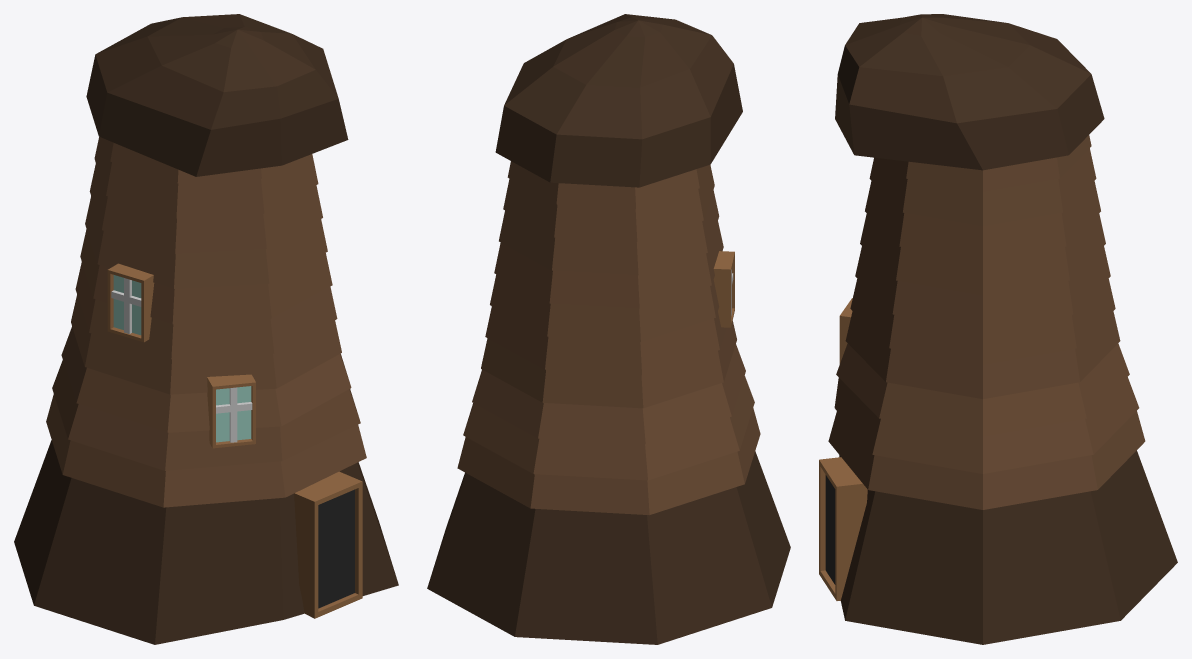
Rendered from windmill_1_mat.fbx.
3 views of the same model, side by side, from view 1: azimuth 30°, elevation 25°; view 2: azimuth 150°, elevation 25°; view 3: azimuth 270°, elevation 25° (orthographic). The views are drawn at different scales.
Visible parts, largest first — view 1: windmill_1_mat; view 2: windmill_1_mat; view 3: windmill_1_mat.
Part boxes in pixels (x1,y1,x2,y2): windmill_1_mat: (14, 14, 398, 644); windmill_1_mat: (427, 14, 790, 644); windmill_1_mat: (819, 14, 1177, 644).
Bounding box in the file's own units: 332 × 511 × 305.
